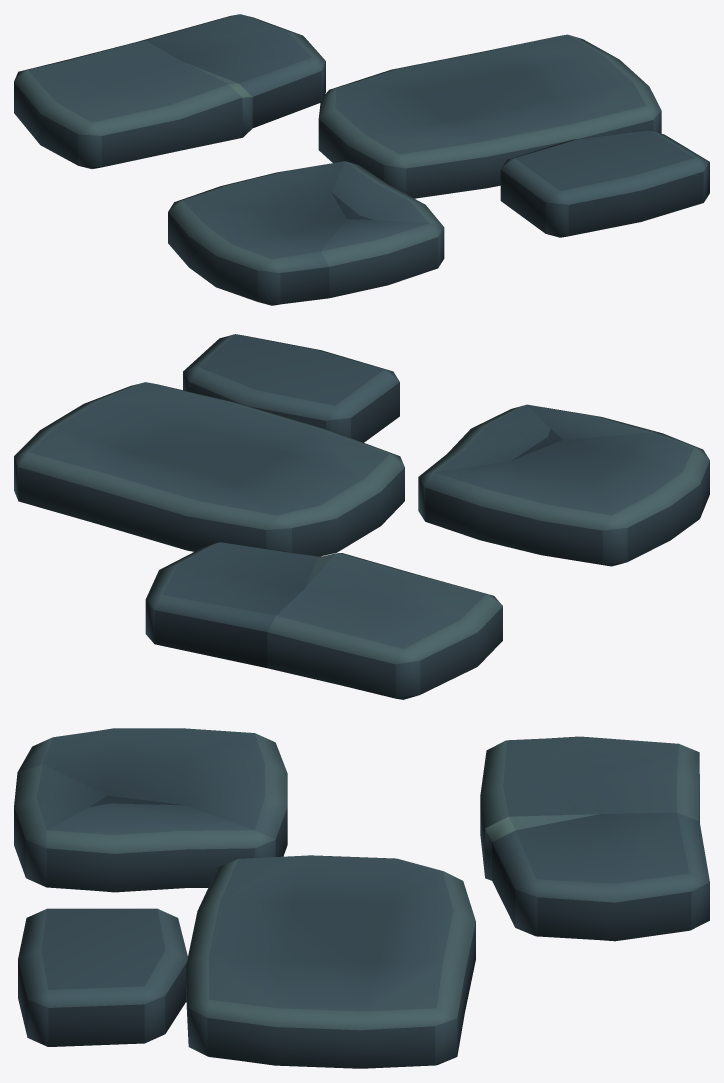
Rendered from stone_path_6_LOD_setup.fbx.
3 views of the same model, one above another, from view 1: azimuth 30°, elevation 25°; view 2: azimuth 150°, elevation 25°; view 3: azimuth 270°, elevation 25° (orthographic). The views are drawn at different scales.
Parts seen in each view (by area): view 1: stone_path_6_LOD0; view 2: stone_path_6_LOD0; view 3: stone_path_6_LOD0.
Part boxes in pixels (x1,y1,x2,y2): stone_path_6_LOD0: (14,14,709,305); stone_path_6_LOD0: (14,334,709,699); stone_path_6_LOD0: (14,728,709,1068).
Size of what is drawn, in the model's own units: 207 by 21.78 by 202.
